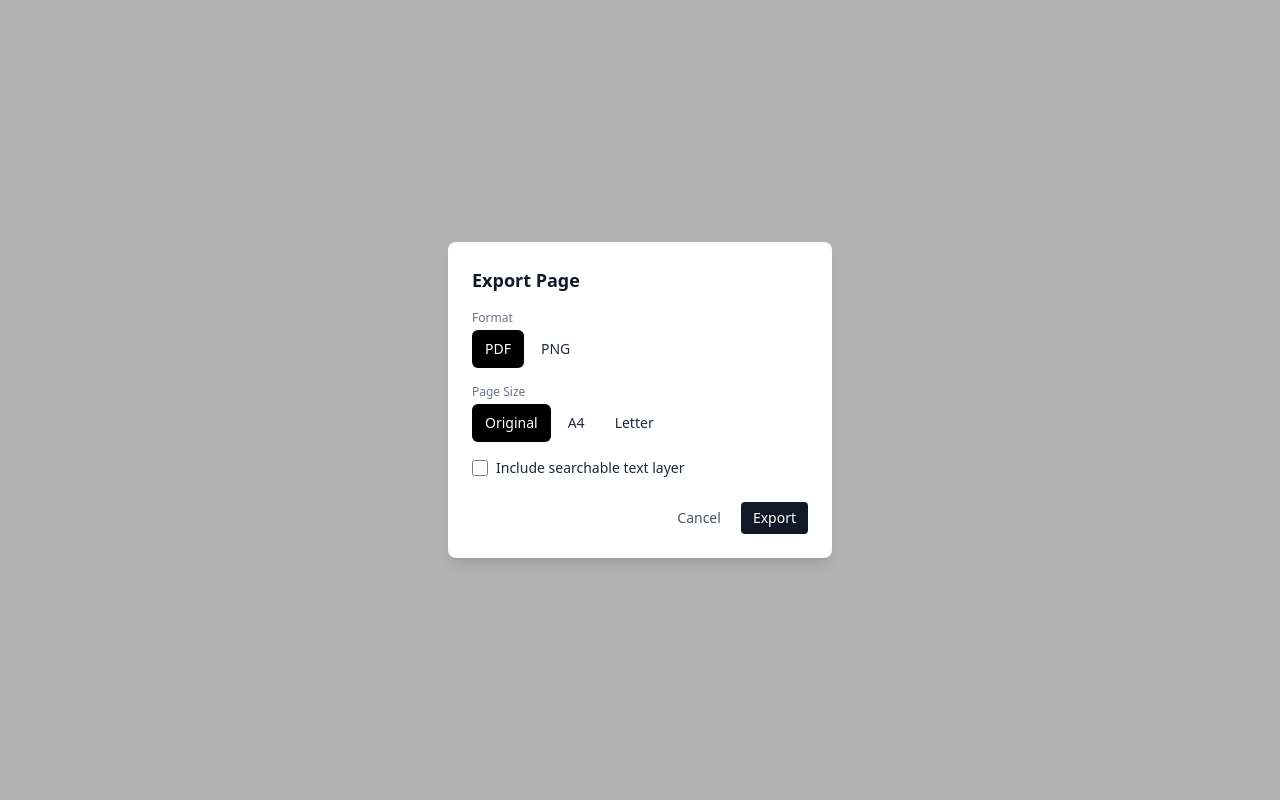
Scenario: ExportDialog › shows error message when export fails
Step 1. Click the button with test id "export-submit" → (774, 518), box left=741, top=502, right=808, bottom=534
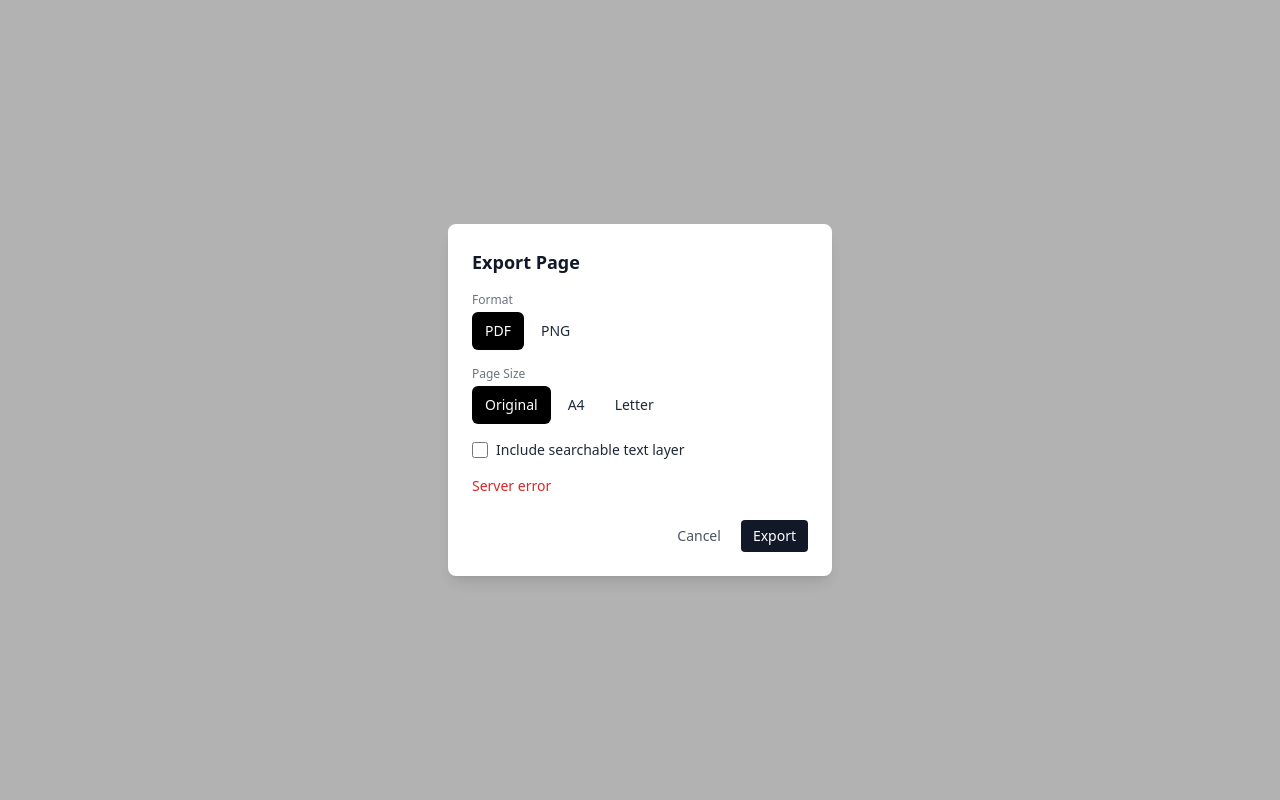
Expected: the text with test id "export-error" reads "Server error", left=472, top=476, right=551, bottom=495
